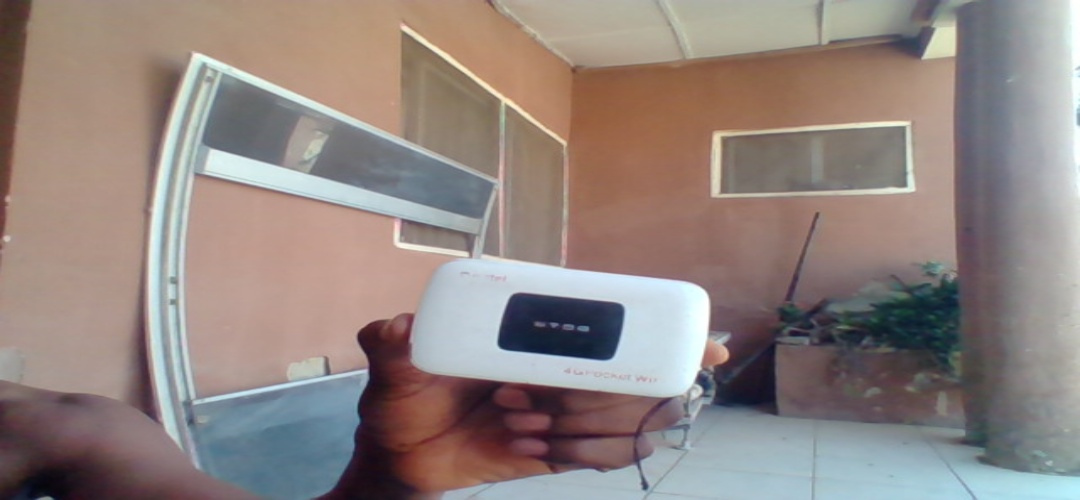mifi: (418, 251, 718, 405)
